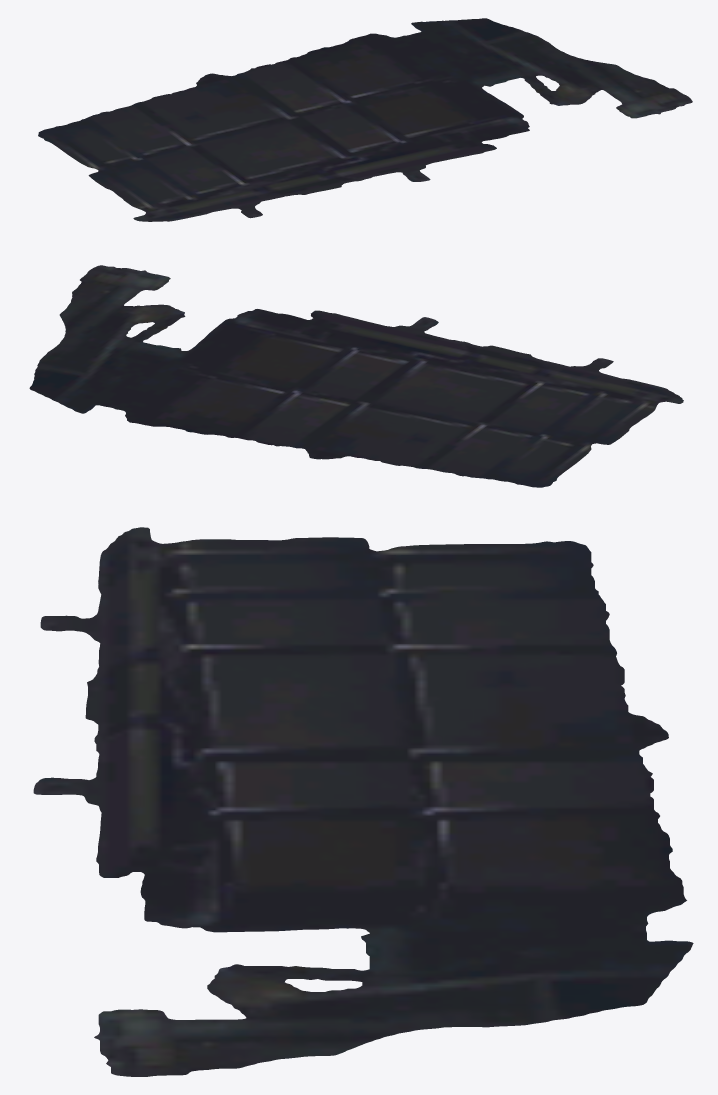
The model's file is item1.fbx.
The picture shows the model from 3 angles, top to bottom: view 1: azimuth 30°, elevation 25°; view 2: azimuth 150°, elevation 25°; view 3: azimuth 270°, elevation 25°; orthographic projection. The views are drawn at different scales.
Parts seen in each view (by area): view 1: mesh_224_315.nr; view 2: mesh_224_315.nr; view 3: mesh_224_315.nr.
Boxes of the visible parts, x1,y1,x2,y2 form: mesh_224_315.nr: [38, 18, 692, 221]; mesh_224_315.nr: [29, 265, 683, 487]; mesh_224_315.nr: [33, 527, 693, 1076].
Bounding box in the file's own units: 893 × 487 × 18.11.
